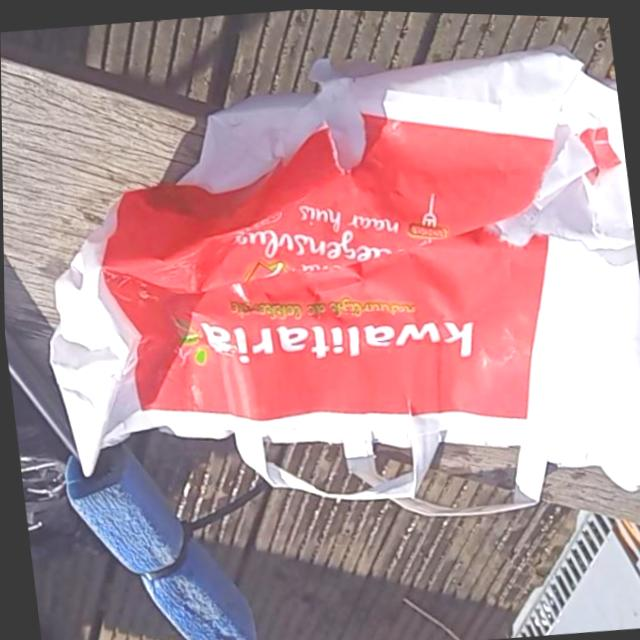Paper: (10, 10, 640, 564)
